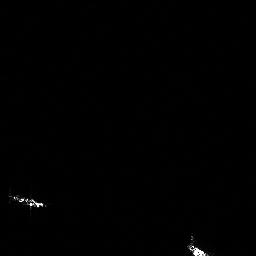ship: (13, 195, 44, 208)
